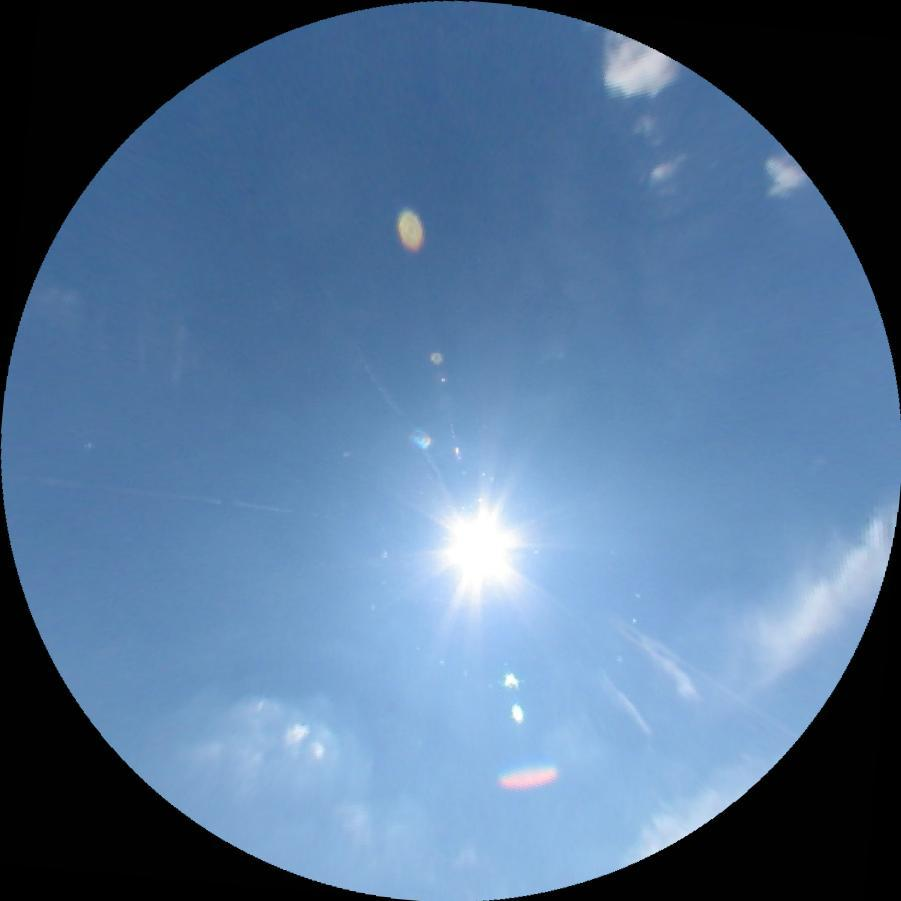contrail old: (357, 353, 447, 481), (601, 674, 654, 736)
parasite: (613, 616, 799, 739), (0, 469, 328, 518), (612, 622, 666, 667)
sun: (428, 499, 526, 598)
